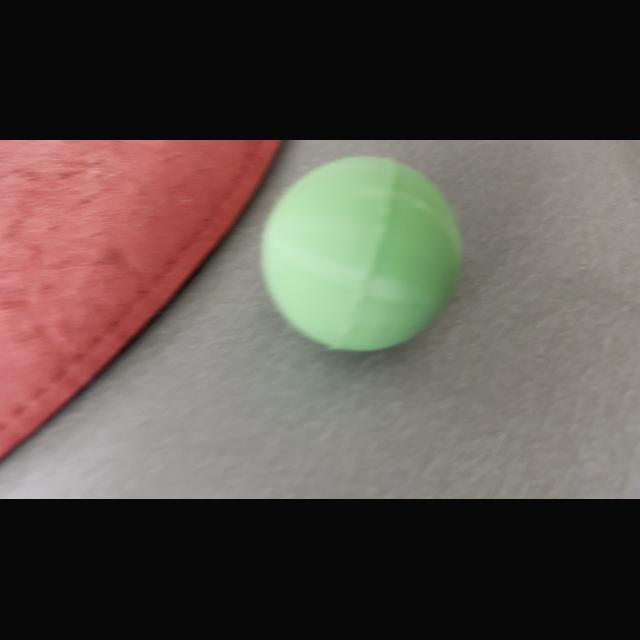objects: (250, 146, 482, 364)
